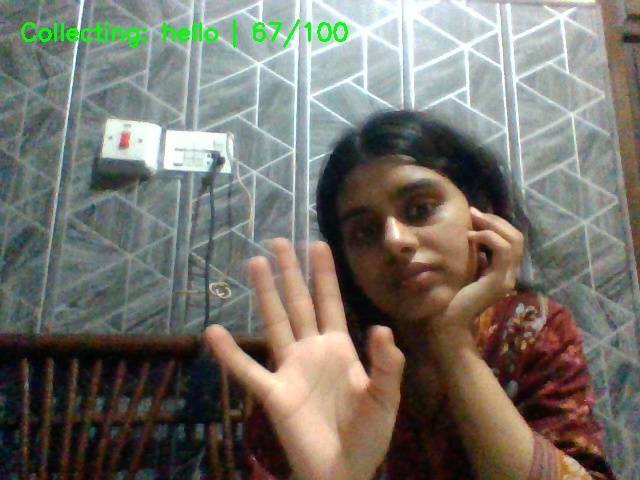hello: (203, 226, 414, 478)
